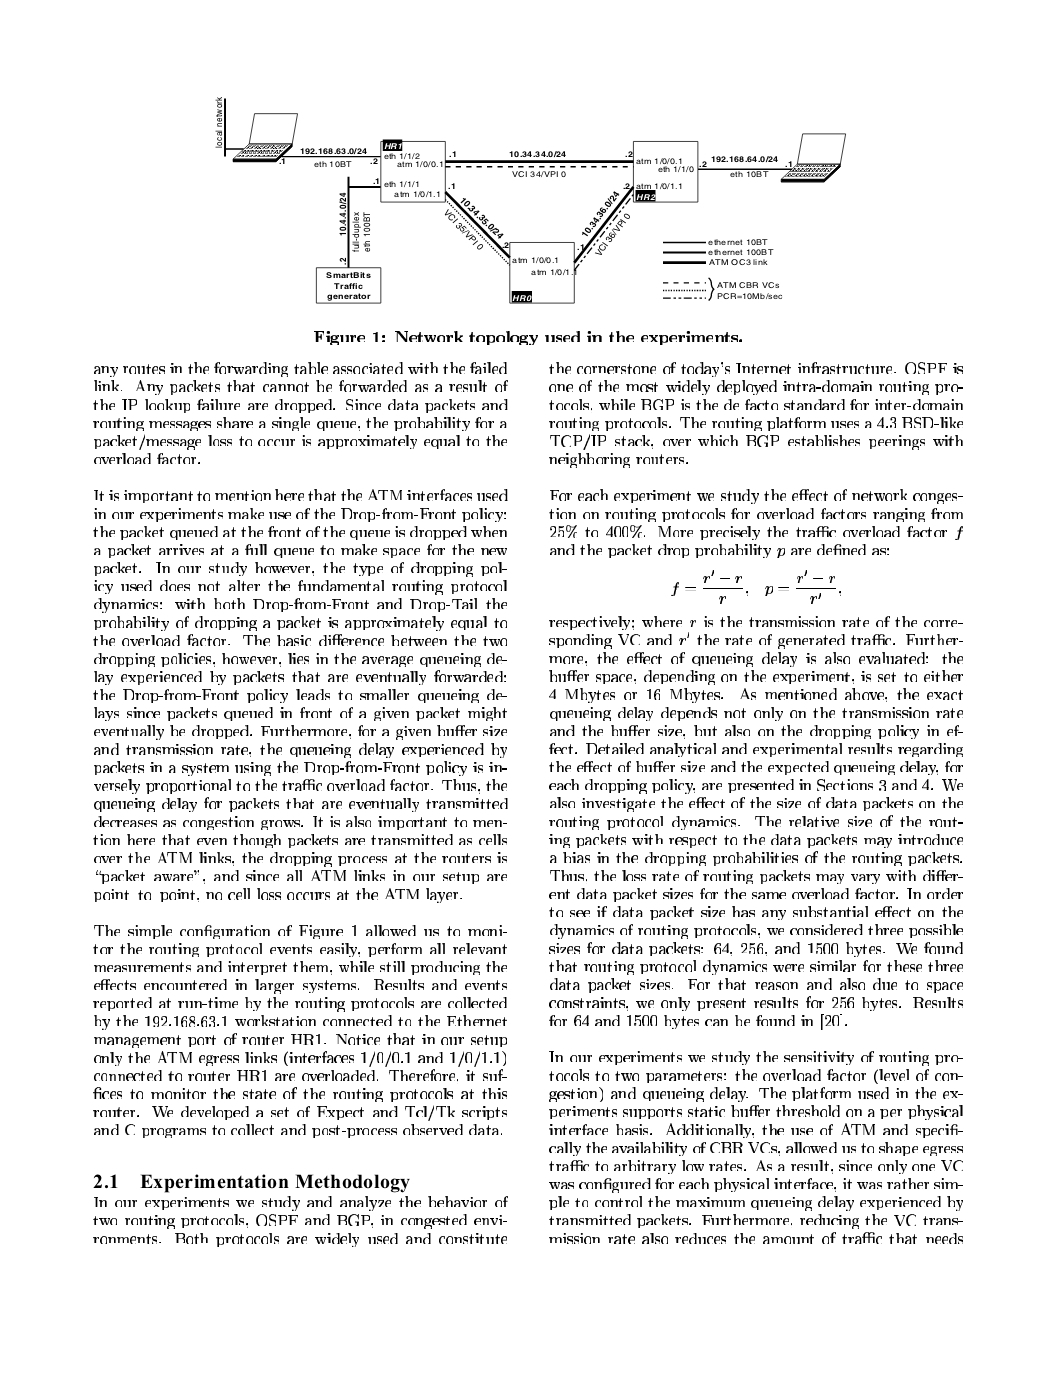figure: (215, 96, 845, 304)
formula: (671, 569, 840, 604)
